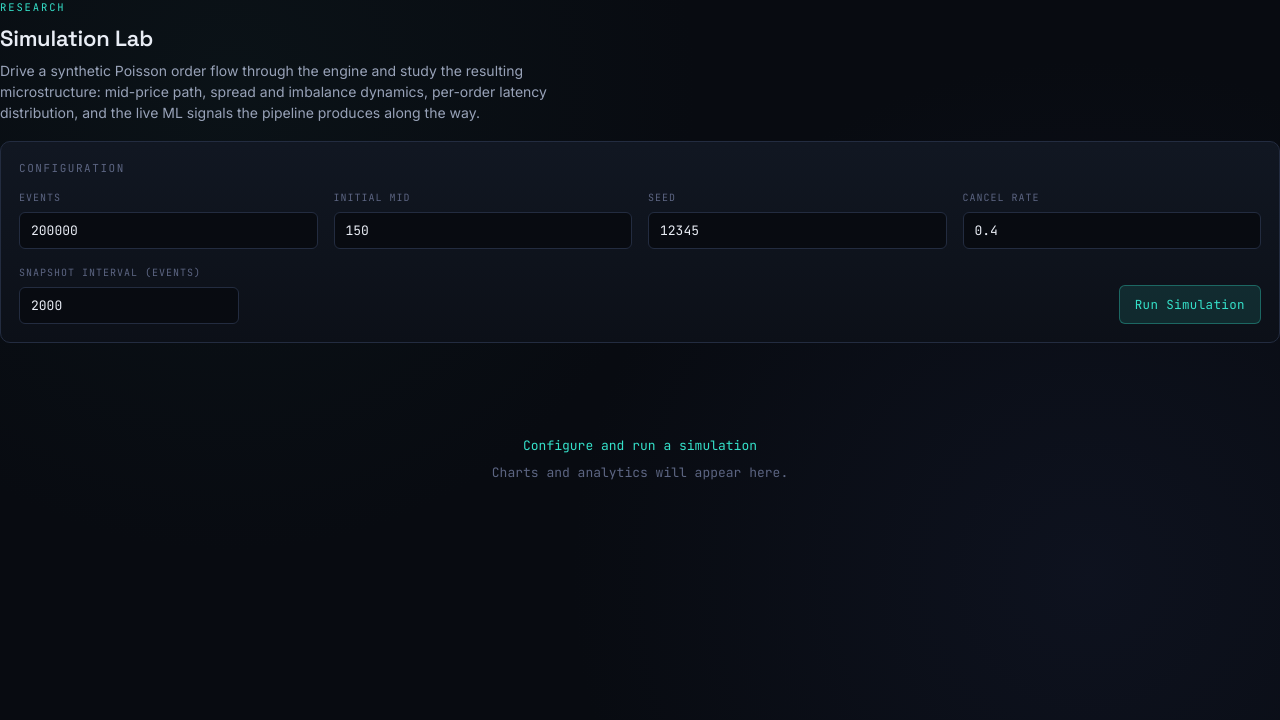
Test: SimulationPanel › shows the headline results
Click the button "Run Simulation" at [1190, 305], box [1119,285,1261,324]
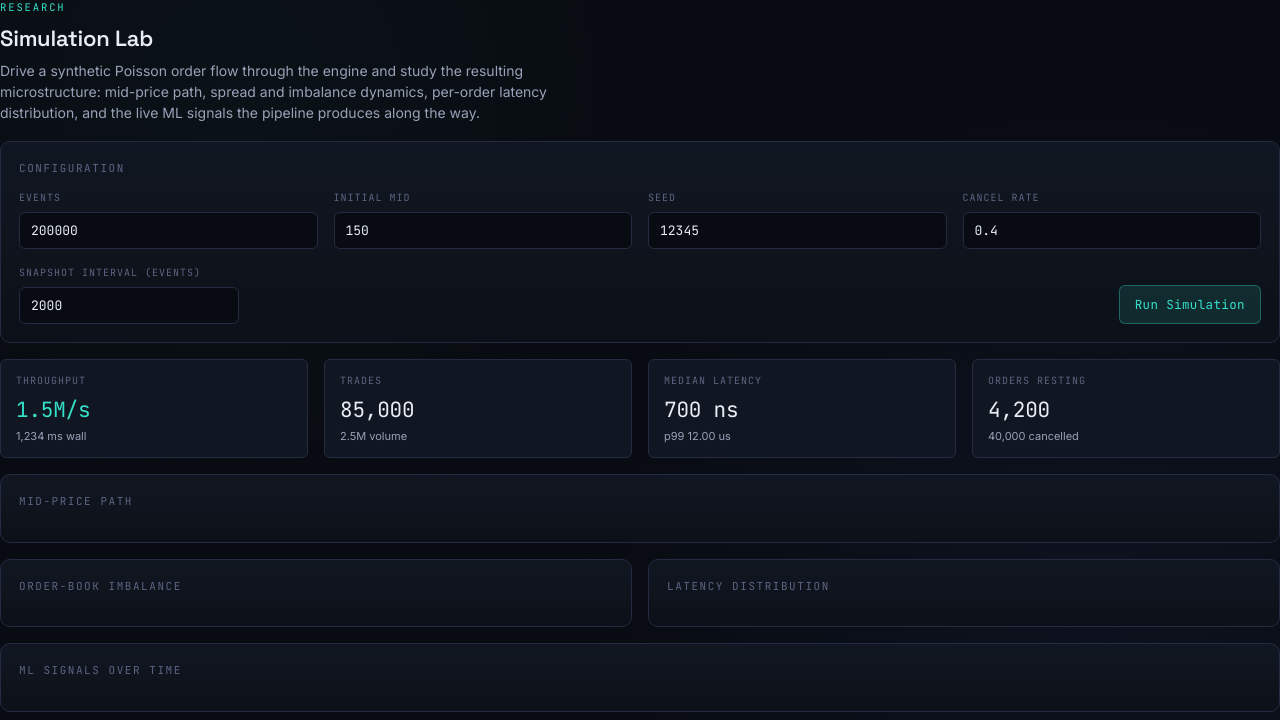
Now the text "Throughput" is shown, box [16,374,86,387]
Now the text "1.5M/s" is shown, box [16,396,90,423]
Now the text "1,234 ms wall" is shown, box [16,429,86,443]
